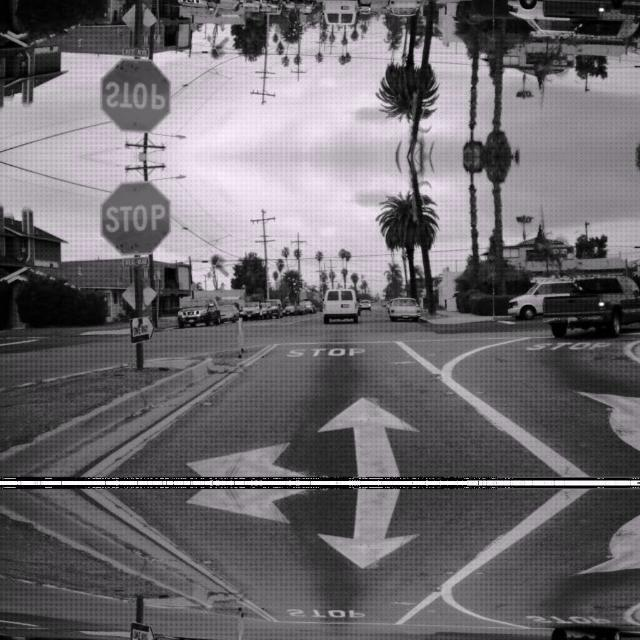stop: (100, 178, 170, 254), (100, 58, 170, 134)
